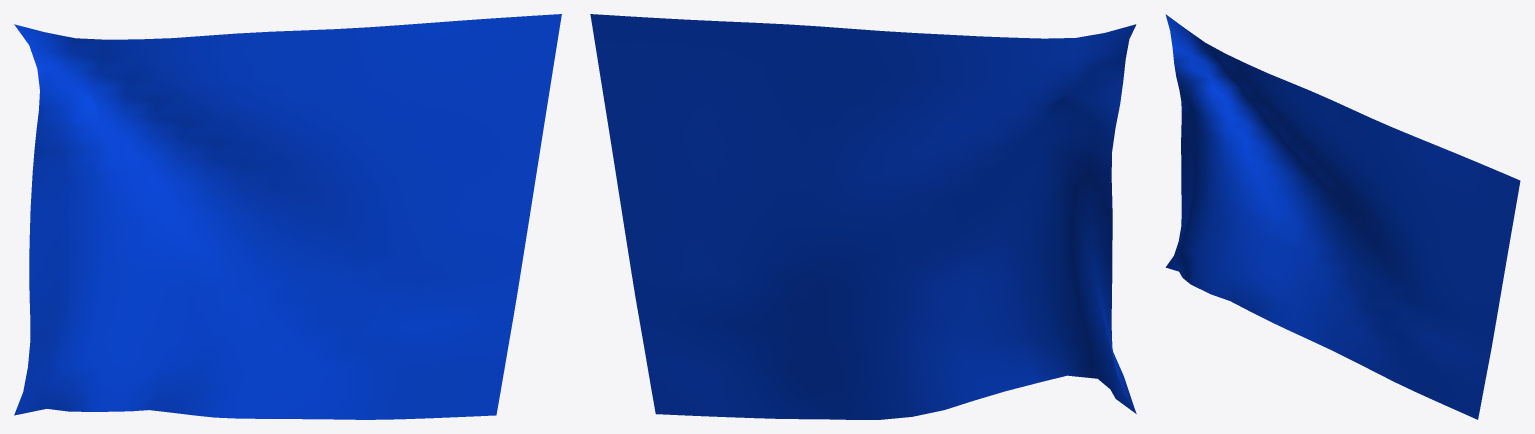
Rendered from 2e82c6c0-75a4-45a8-8f1e-d851ada4097e.glb.
The picture shows the model from 3 angles, left to right: view 1: azimuth 30°, elevation 25°; view 2: azimuth 150°, elevation 25°; view 3: azimuth 330°, elevation 25°; orthographic projection. The views are drawn at different scales.
Parts seen in each view (by area): view 1: Flag.Colors; view 2: Flag.Colors; view 3: Flag.Colors.
Part boxes in pixels (x1,y1,x2,y2): Flag.Colors: (14,14,561,419); Flag.Colors: (590,14,1136,419); Flag.Colors: (1165,14,1520,419).
Size of what is drawn, in the model's own units: 0.8058 by 0.7152 by 0.0873.
1 material, 1 textured.
